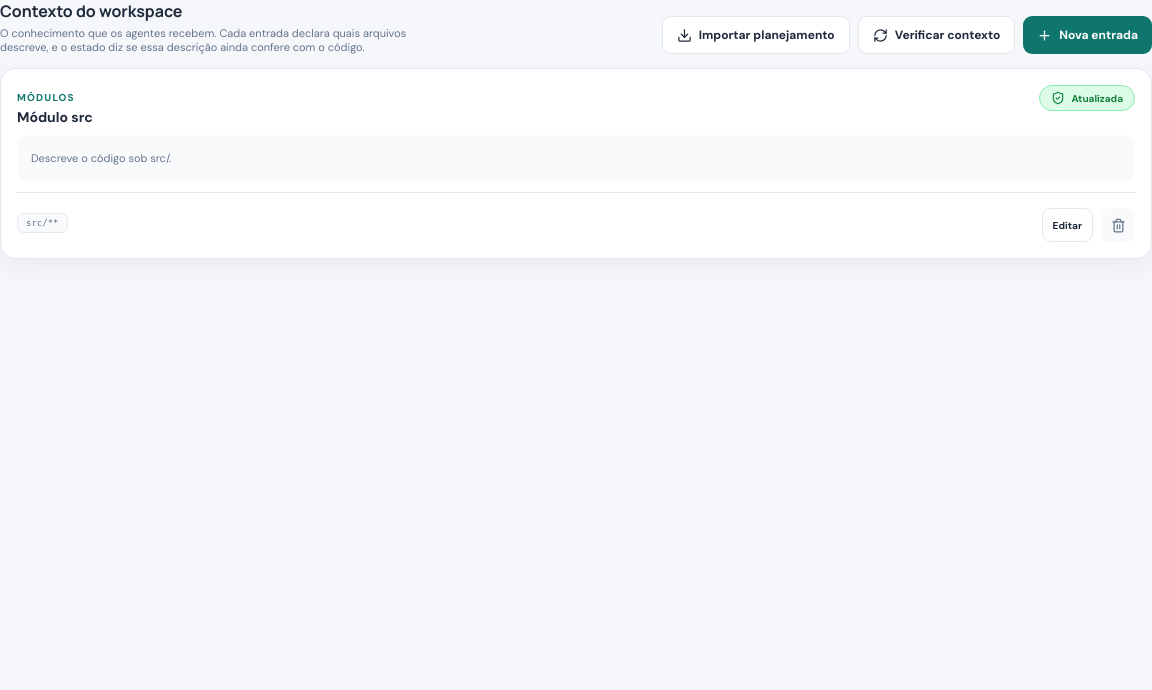
Test: ContextTab — editor › avisa antes de descartar alterações não salvas
Click the button "Editar" at (1067, 225), box [1042, 208, 1093, 242]
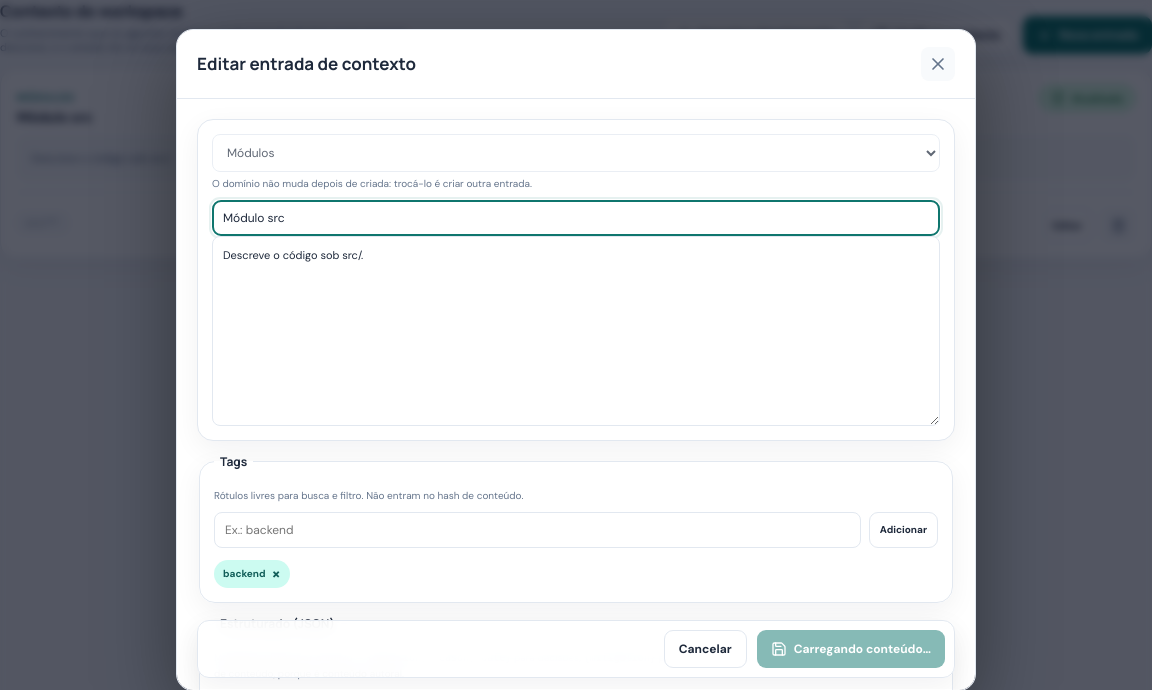
Replace the text in the field labelled "Título *" with "mexido" at (576, 218), box [212, 200, 940, 236]
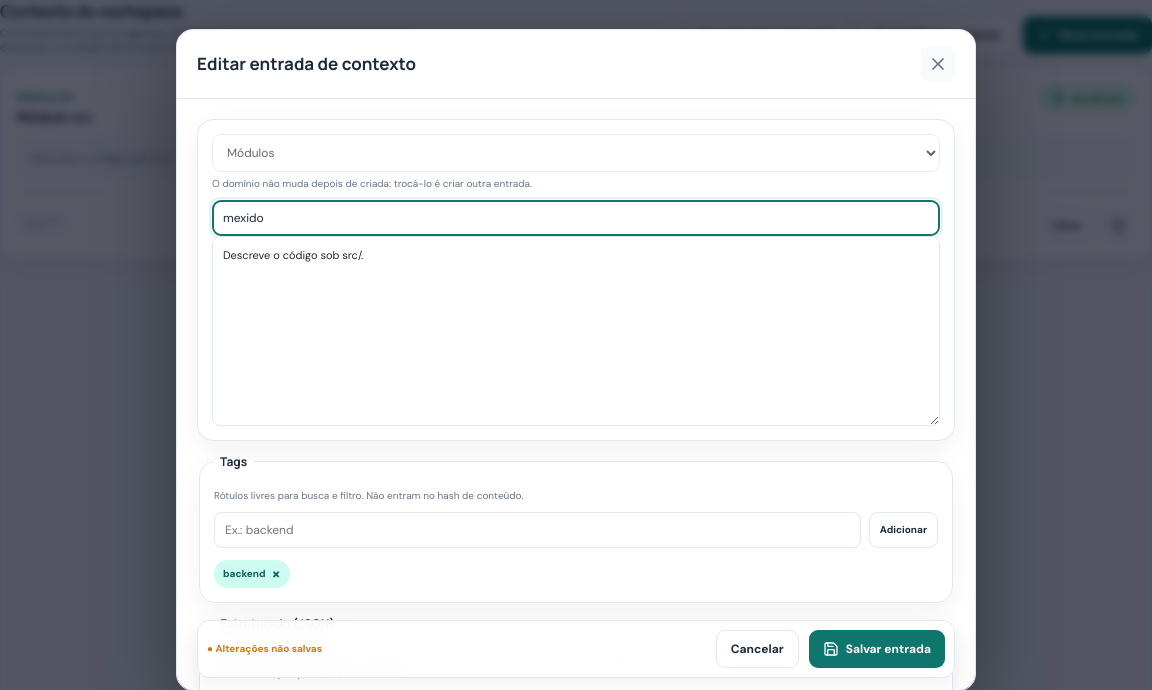
Expected: the text "● Alterações não salvas" is shown, [207, 643, 322, 656]
Click the button "Cancelar" at (757, 649), box [716, 630, 799, 668]
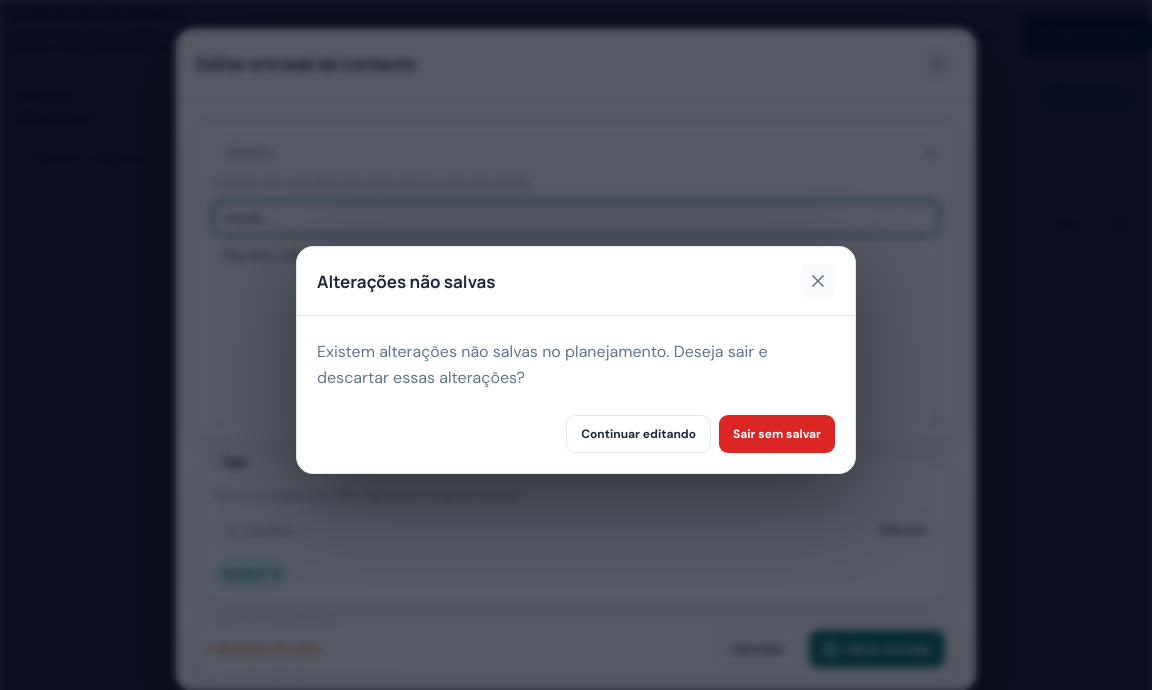
Expected: the heading "Alterações não salvas" is shown, [317, 270, 496, 293]
